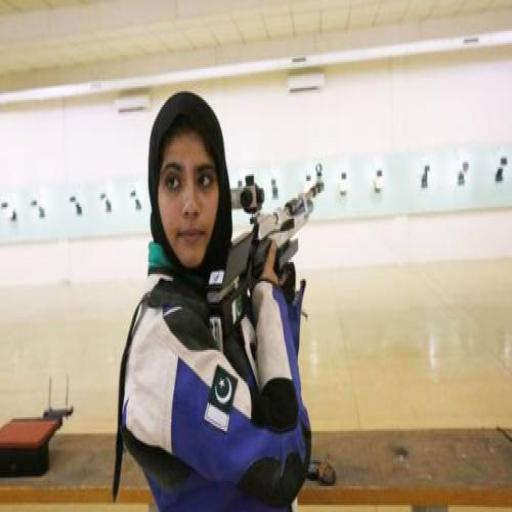shooting: (112, 88, 316, 510)
